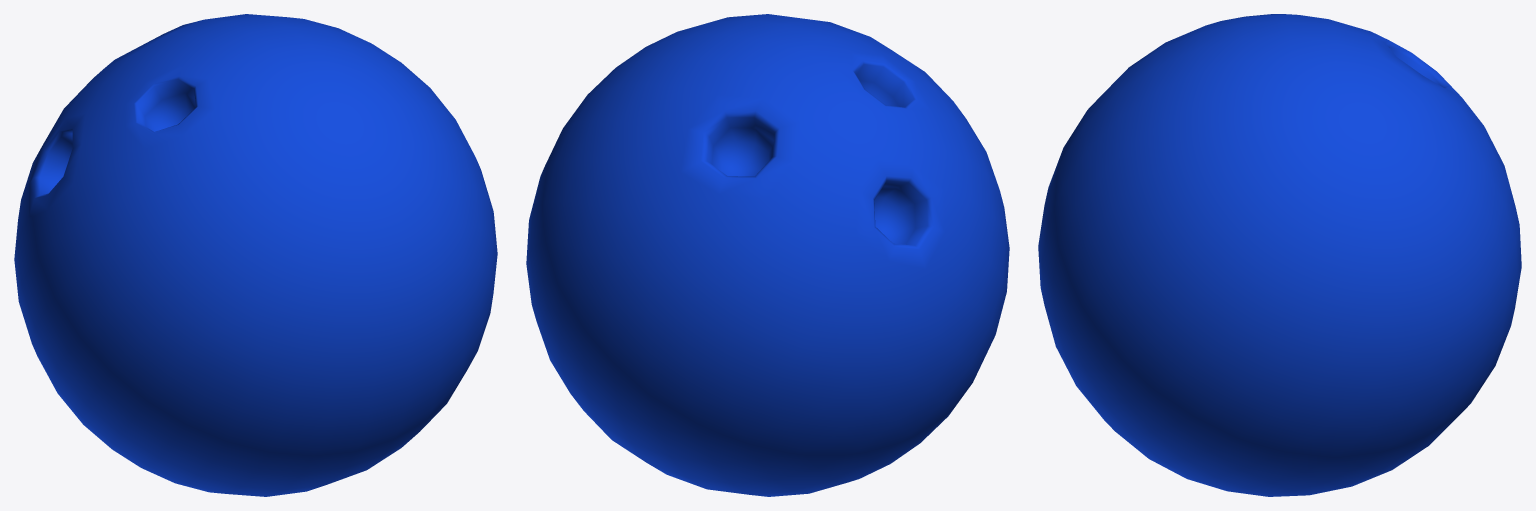
File: bowlingBall13.obj
3 views of the same model, side by side, from view 1: azimuth 30°, elevation 25°; view 2: azimuth 150°, elevation 25°; view 3: azimuth 270°, elevation 25° (orthographic).
Visible parts, largest first — view 1: bowlingBall13; view 2: bowlingBall13; view 3: bowlingBall13.
Boxes of the visible parts, <box> form: bowlingBall13: <box>14,14,497,496</box>; bowlingBall13: <box>526,14,1009,496</box>; bowlingBall13: <box>1038,14,1521,496</box>.
Size of the model in its own units: 0.173 by 0.1728 by 0.1728.
